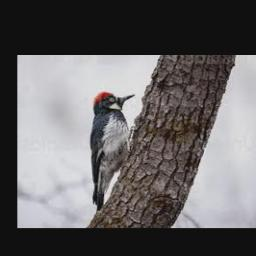Woodpecker: (90, 91, 136, 212)
